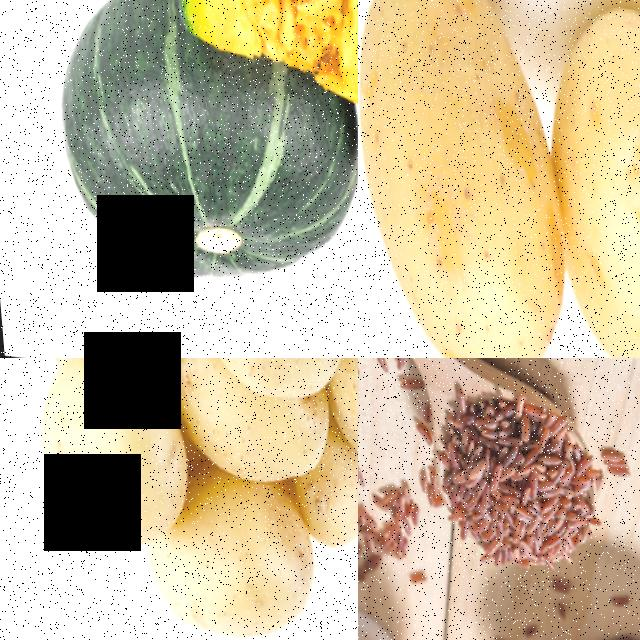potato: (358, 0, 580, 358), (531, 0, 640, 358), (25, 358, 181, 553), (164, 473, 309, 640), (165, 358, 327, 483), (294, 436, 358, 553)
pumpkin: (35, 43, 356, 302), (162, 0, 358, 93)
red rice: (433, 383, 598, 582)
